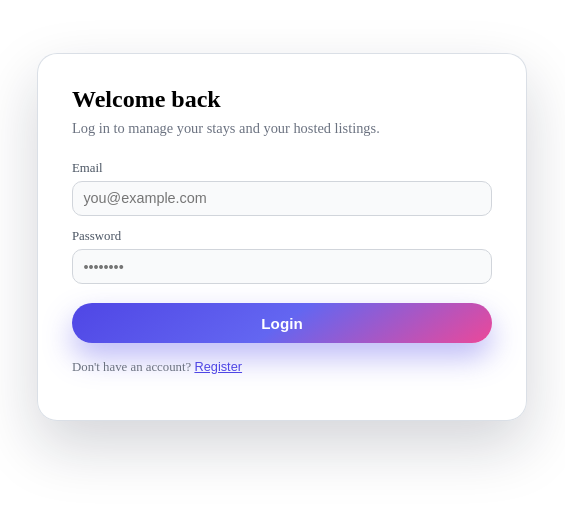
it: LoginPage › submits trimmed credentials and redirects to preserved route
Type " user@example.com " into the field labelled "Email" at [282, 198], box [72, 180, 492, 216]
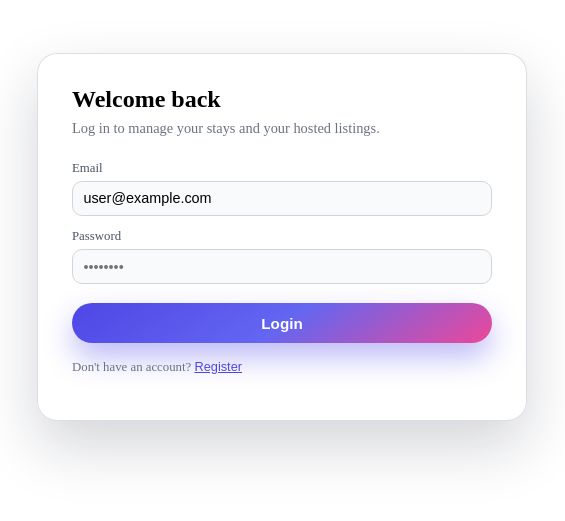
Type "secret" into the password field labelled "Password" at [282, 266], box [72, 249, 492, 284]
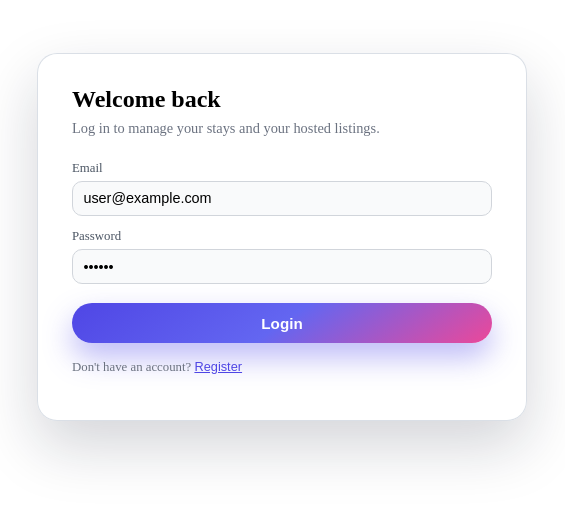
Submit the form with test id "login-form", box [72, 161, 492, 343]
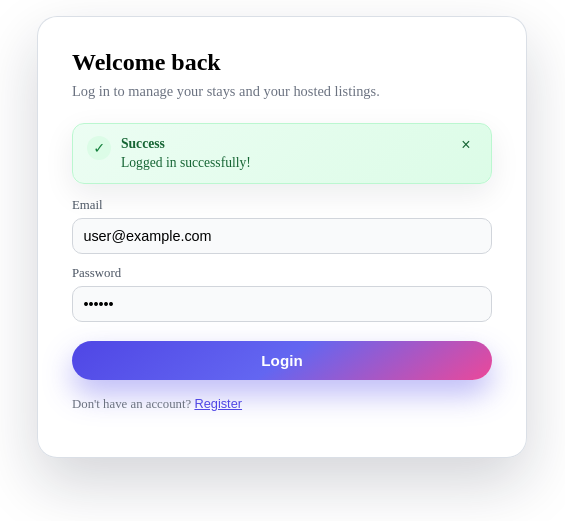
Now the text "Logged in successfully!" is shown, box [121, 155, 251, 170]
